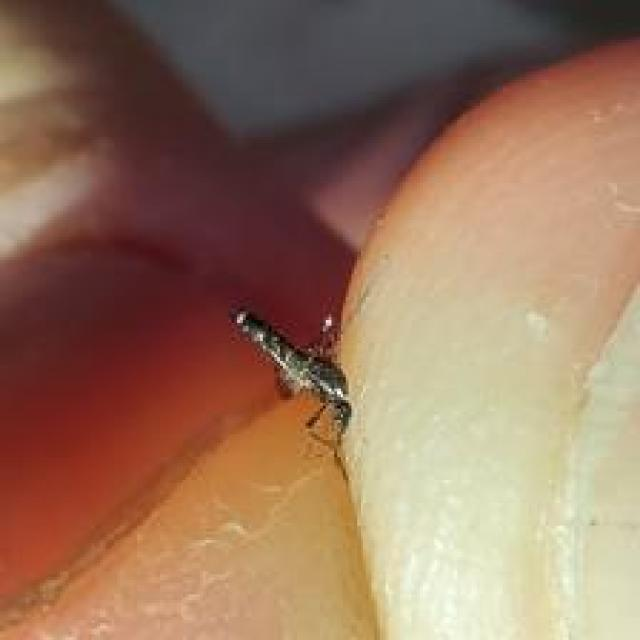Aedes albopictus: (227, 303, 353, 443)
